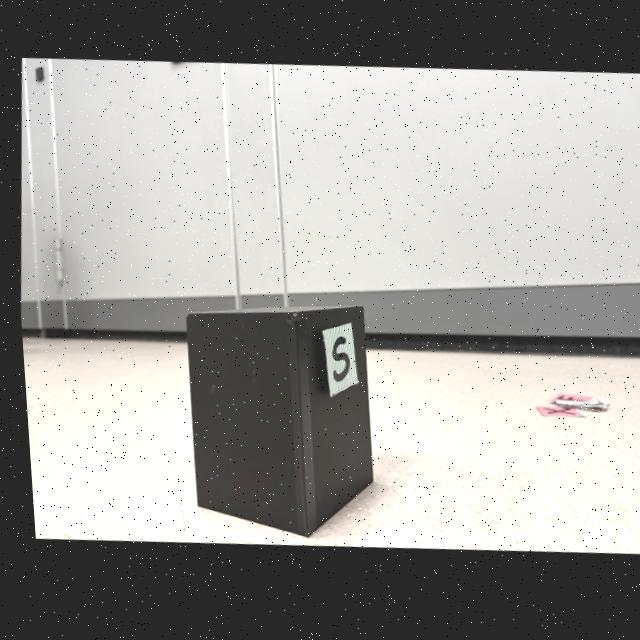S: (327, 339, 345, 384)
